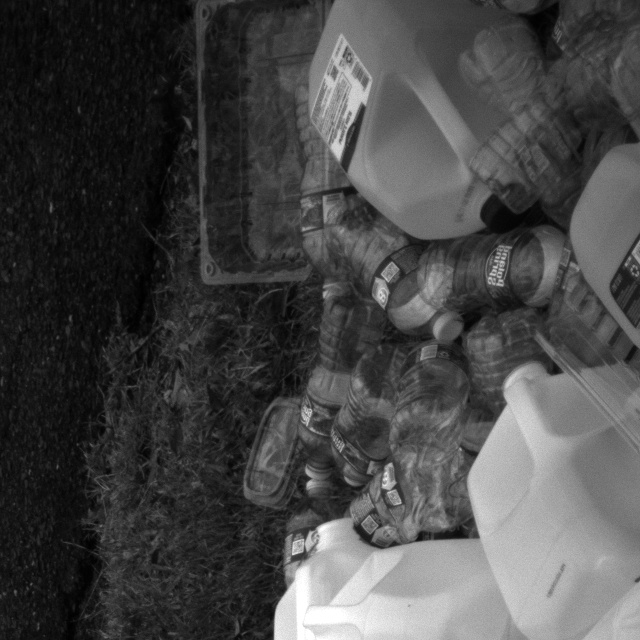bottle: (427, 29, 598, 248), (332, 209, 472, 366), (374, 223, 570, 316), (331, 431, 504, 528), (432, 221, 586, 328), (444, 302, 551, 423)
can: (277, 1, 563, 250), (464, 357, 640, 640), (290, 526, 567, 640), (250, 492, 421, 640), (563, 133, 640, 397), (533, 545, 639, 640)
container: (155, 1, 343, 304), (228, 398, 317, 516)
